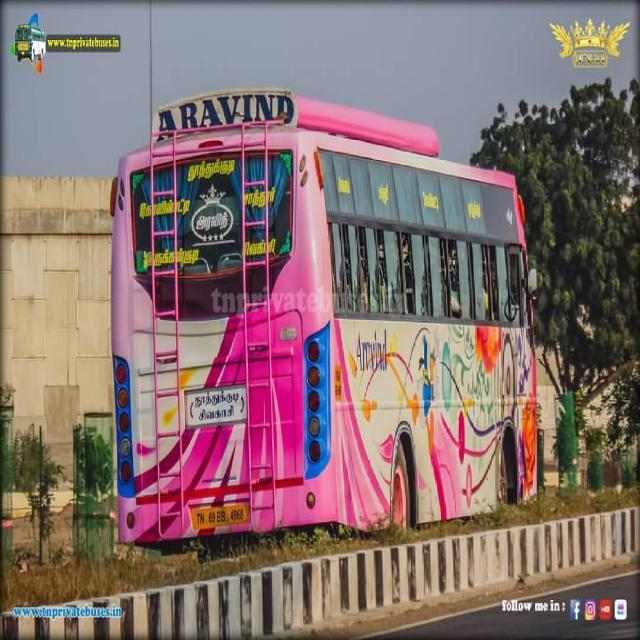Bus: (107, 87, 542, 544)
